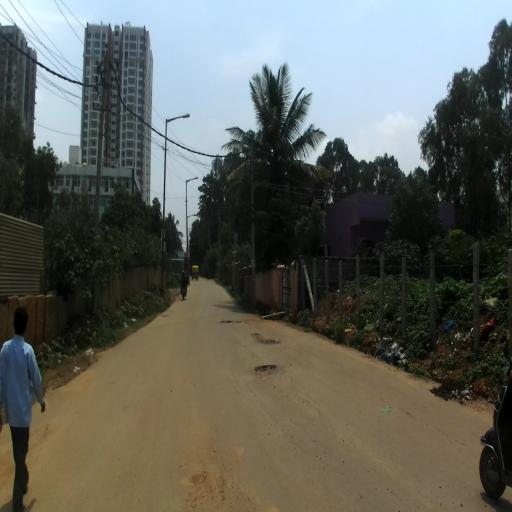street_light_0: (166, 113, 190, 123), (186, 177, 198, 182), (186, 214, 196, 219)
